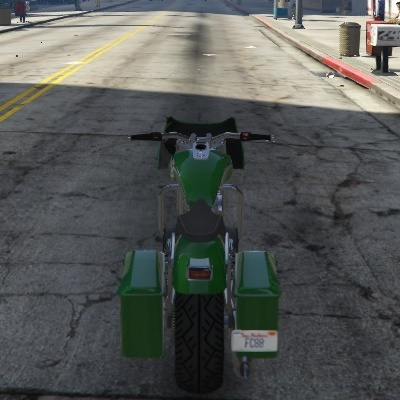off: (183, 254, 216, 287)
